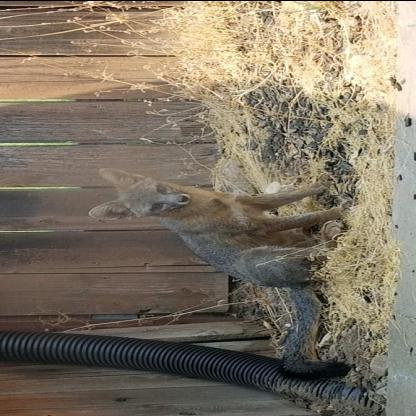zorro: (81, 150, 360, 383)
